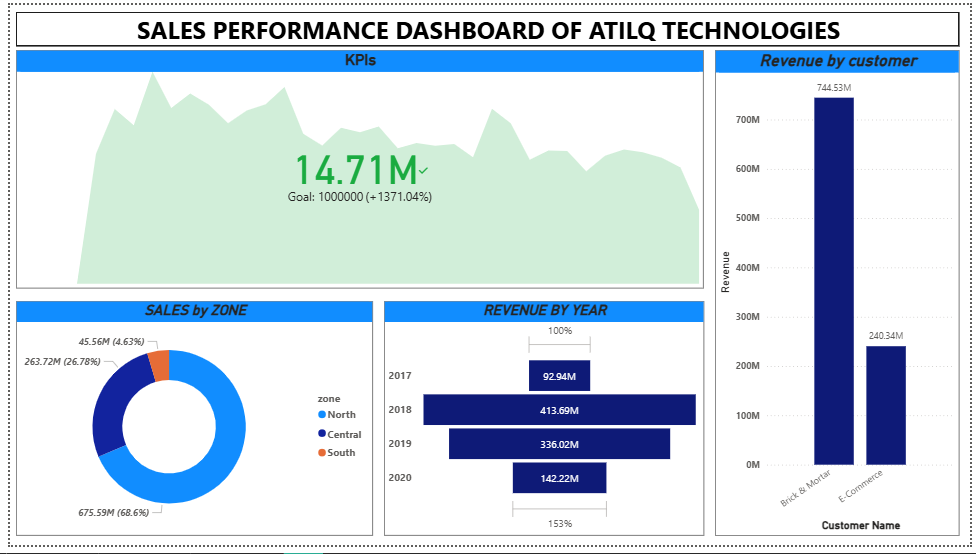

Layout of this report page (visuals, bound fields, positions):
{"tool":"powerbi","page":{"name":"Insights 3","canvas":[1280,720],"ordinal":2},"visuals":[{"type":"clusteredColumnChart","title":"Revenue by customer","fields":{"Y":["BaseMeasures.Revenue"],"Category":["sales customers.customer_type"]},"box":[939.6,59.8,325.8,647.9],"z":0},{"type":"kpi","title":"KPIs","fields":{"Indicator":["BaseMeasures.Revenue"],"TrendLine":["sales date.cy_date"],"Goal":["BaseMeasures.Target"]},"box":[8.5,59.5,917.1,317.5],"z":1000},{"type":"donutChart","title":"SALES by ZONE","fields":{"Category":["sales markets.zone"],"Y":["Sum(sales transactions.normal sales amount)"]},"box":[8.5,394.1,476.3,313.3],"z":2000},{"type":"funnel","title":"REVENUE BY YEAR","fields":{"Y":["BaseMeasures.Revenue"],"Category":["sales date.cy_date.Variation.Date Hierarchy.Year","sales date.cy_date.Variation.Date Hierarchy.Quarter","sales date.cy_date.Variation.Date Hierarchy.Month","sales date.cy_date.Variation.Date Hierarchy.Day"]},"box":[499,394.1,426.7,313.3],"z":3000},{"type":"shape","box":[7.4,8.9,1258.3,45.8],"z":4000}]}

Visuals, with their boxes in screenshot pixels (x1, y1, x2, y2), scaled from the page's 1280x720 canvas onto the 976x554 screenshot:
"Revenue by customer" clusteredColumnChart: x1=716, y1=46, x2=965, y2=545
"KPIs" kpi: x1=6, y1=46, x2=706, y2=290
"SALES by ZONE" donutChart: x1=6, y1=303, x2=370, y2=544
"REVENUE BY YEAR" funnel: x1=380, y1=303, x2=706, y2=544
shape: x1=6, y1=7, x2=965, y2=42
